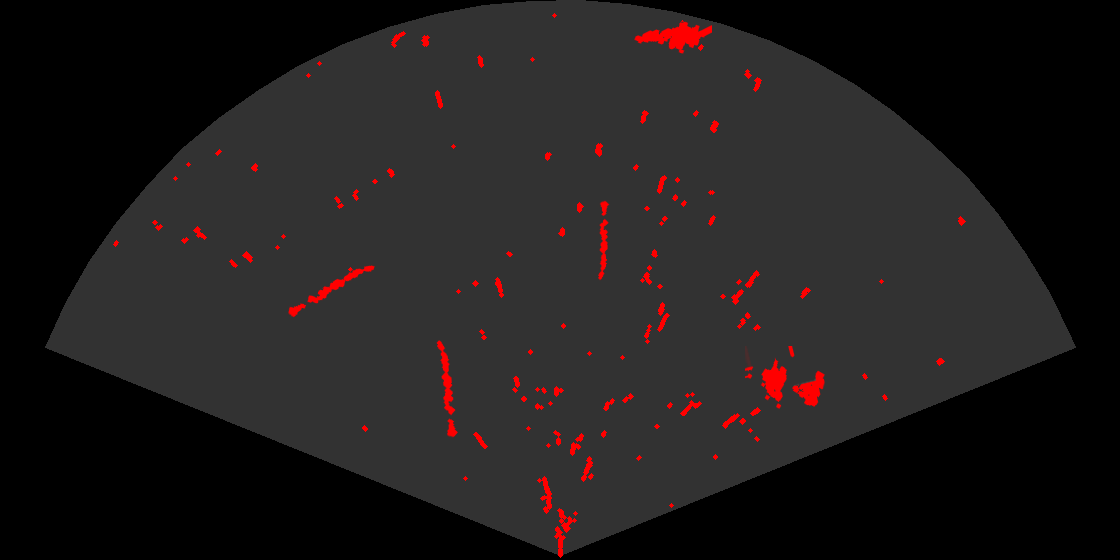cage: (745, 346, 826, 410)
chain: (287, 264, 376, 319), (435, 339, 459, 439), (597, 200, 611, 281)
frogman: (633, 20, 712, 55)
